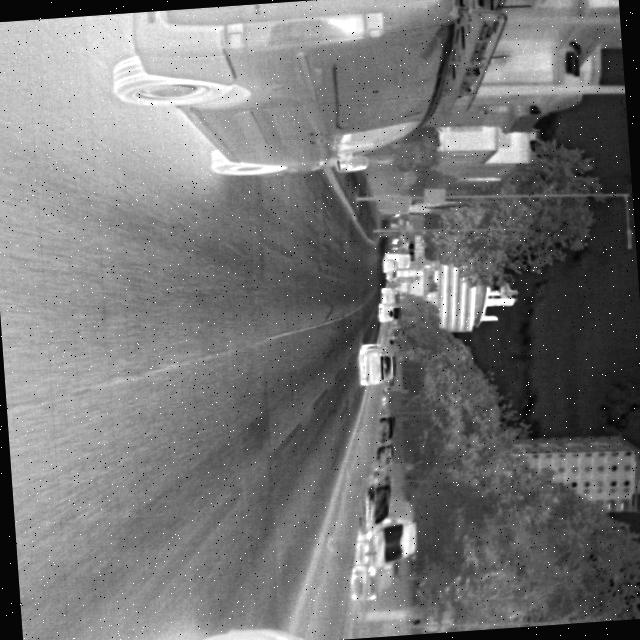Vehicle: (104, 0, 519, 190), (354, 339, 399, 388)
